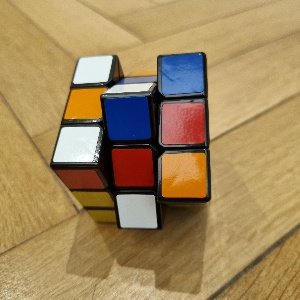cube: (50, 53, 212, 231)
